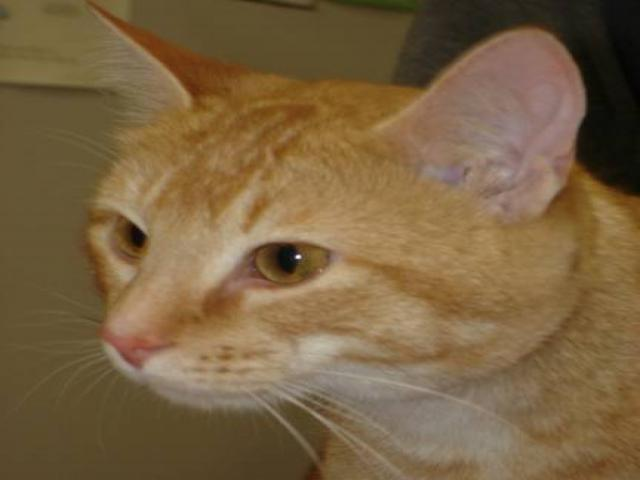cat: (46, 4, 629, 436)
